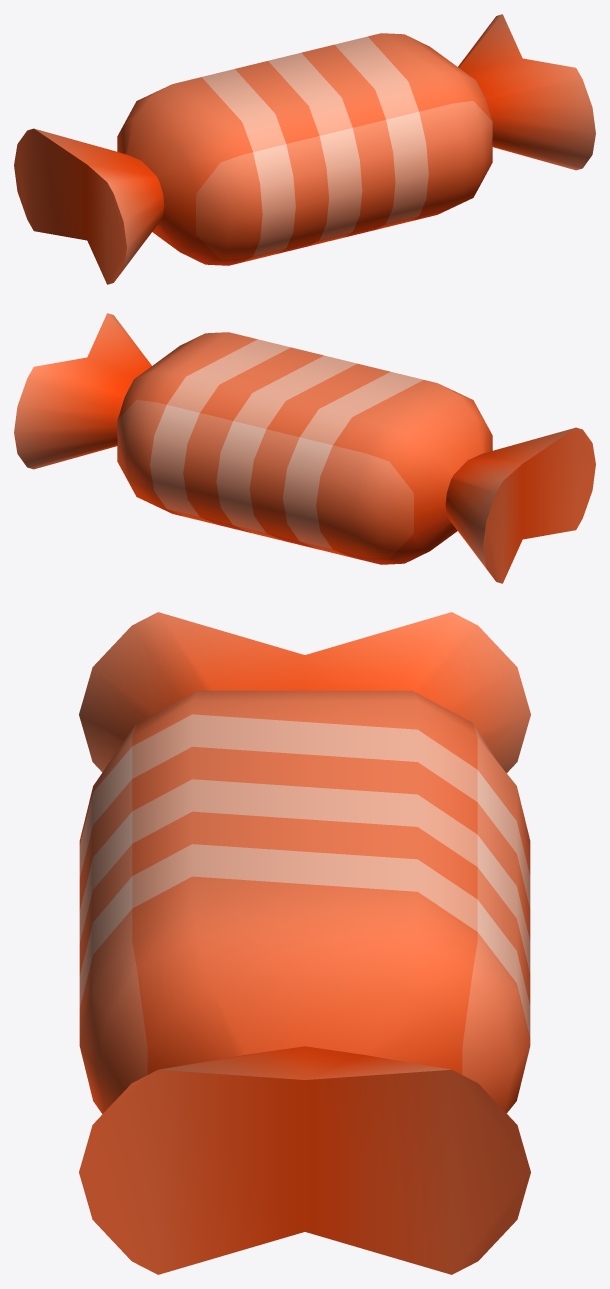
Rendered from Candy_Orange_01.fbx.
3 renders of one model, top to bottom at view 1: azimuth 30°, elevation 25°; view 2: azimuth 150°, elevation 25°; view 3: azimuth 270°, elevation 25°, orthographic. The views are drawn at different scales.
Parts seen in each view (by area): view 1: Candy_Orange_01; view 2: Candy_Orange_01; view 3: Candy_Orange_01.
Boxes of the visible parts, x1,y1,x2,y2 form: Candy_Orange_01: [14, 14, 595, 284]; Candy_Orange_01: [14, 313, 595, 583]; Candy_Orange_01: [79, 612, 530, 1274].
Bounding box in the file's own units: 225 × 64.37 × 93.93.
